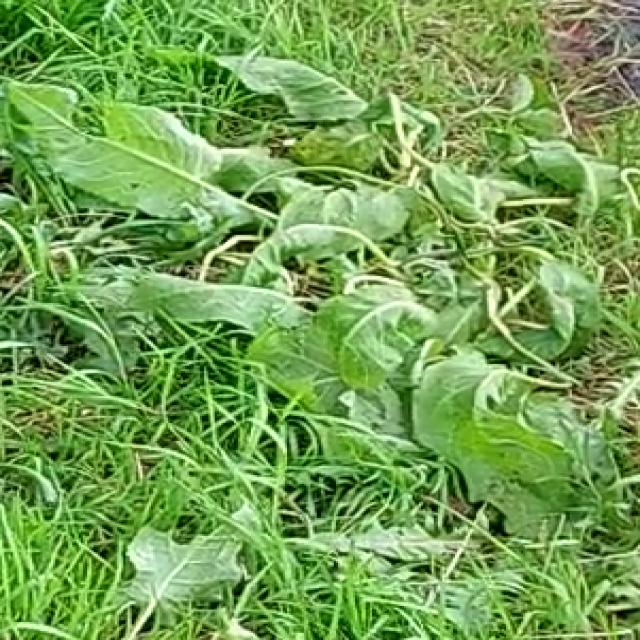organic waste: (138, 49, 640, 454)
